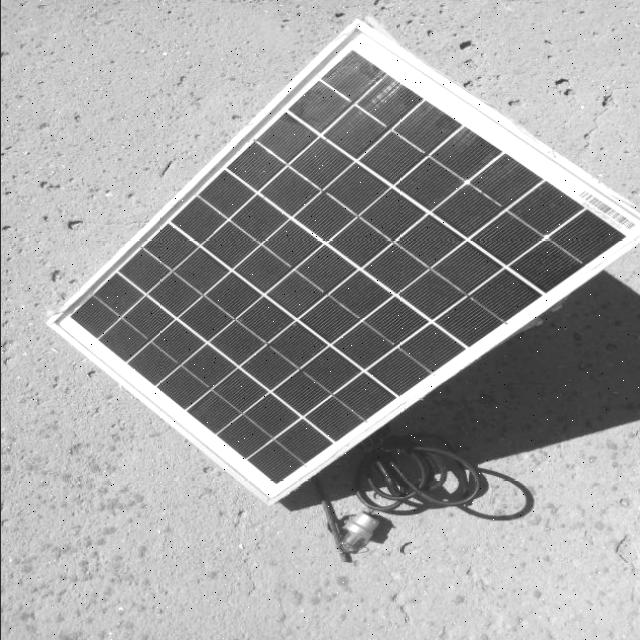Normal Solar Panel: (47, 24, 640, 505)
